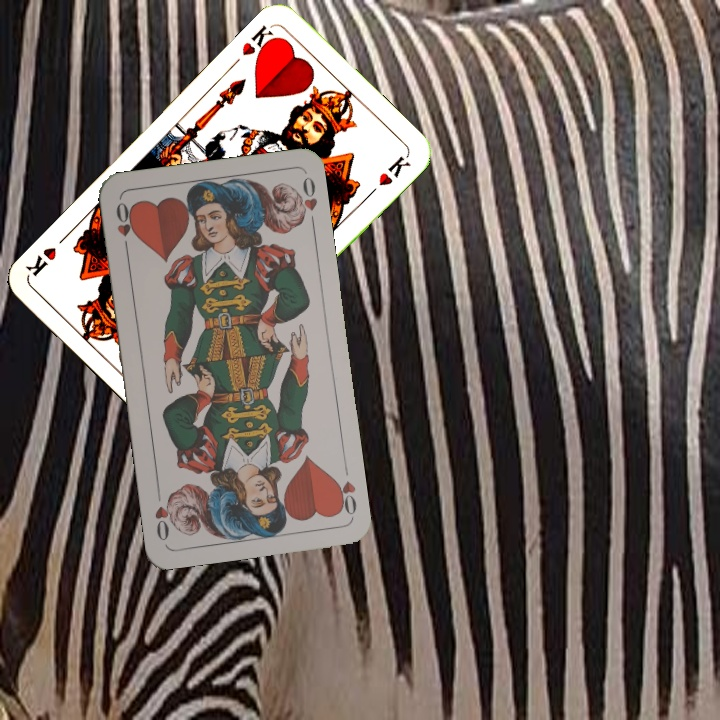HK: (238, 21, 282, 63)
HO: (330, 460, 359, 518), (112, 198, 137, 256)
